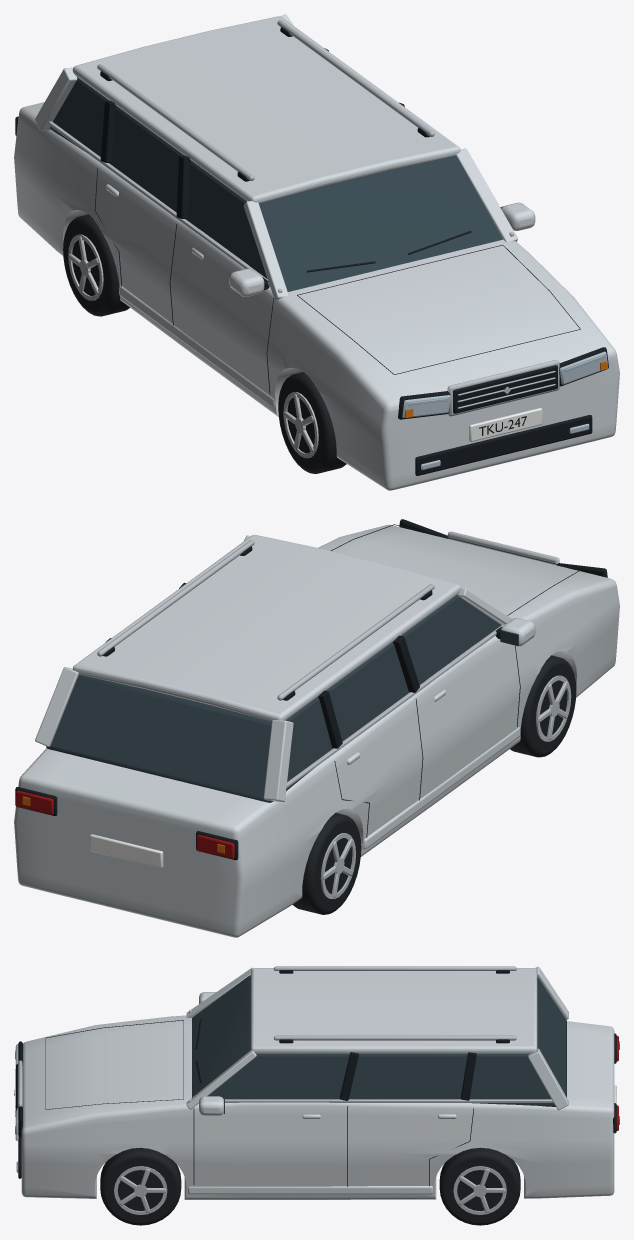
The model's file is estate_lod0.glb.
3 views of the same model, one above another, from view 1: azimuth 30°, elevation 25°; view 2: azimuth 150°, elevation 25°; view 3: azimuth 270°, elevation 25° (orthographic). The views are drawn at different scales.
Parts seen in each view (by area): view 1: aava_estate_lod0; view 2: aava_estate_lod0; view 3: aava_estate_lod0.
Boxes of the visible parts, bbox=[...] form: aava_estate_lod0: bbox=[14, 14, 619, 490]; aava_estate_lod0: bbox=[14, 519, 619, 937]; aava_estate_lod0: bbox=[14, 966, 619, 1225].
Bounding box in the file's own units: 2.12 × 1.54 × 4.79.
